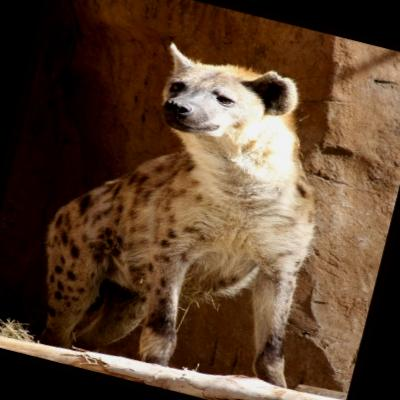hyenas: (9, 0, 400, 400)
